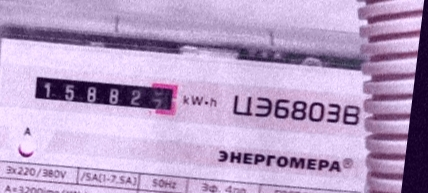1: (40, 79, 52, 98)
2: (128, 86, 141, 105)
5: (61, 81, 75, 100)
7: (150, 95, 162, 109)
8: (84, 83, 97, 101), (107, 86, 119, 103)
screen: (26, 63, 184, 120)
